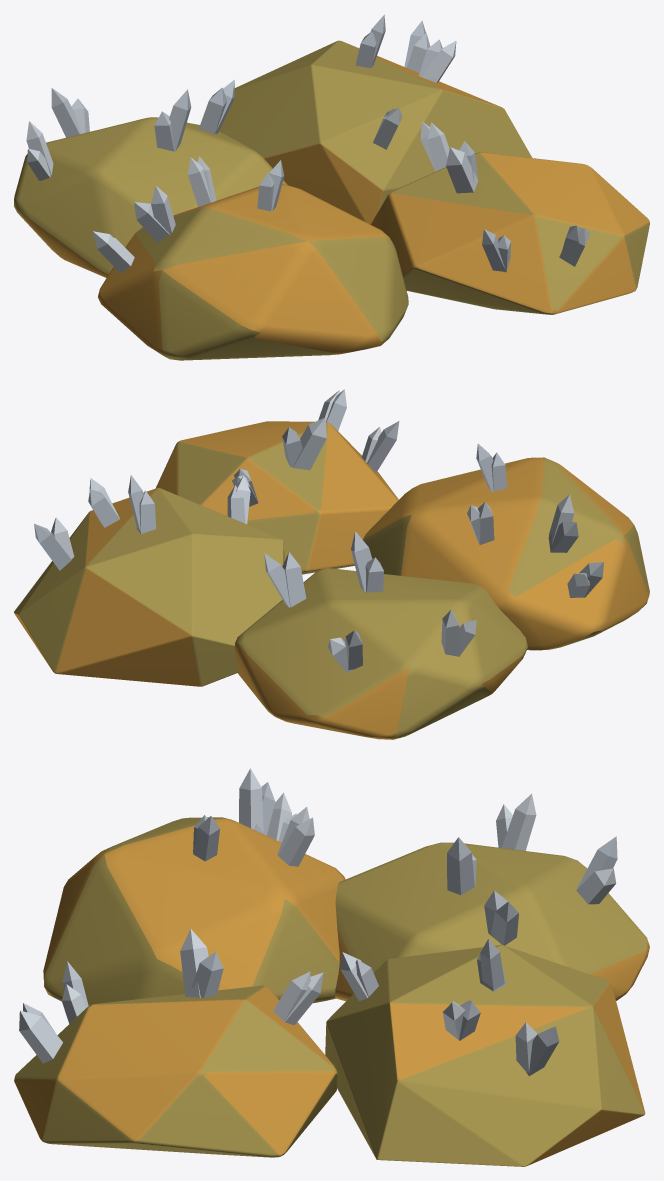
Rendered from minerai_zinc_1.glb.
The picture shows the model from 3 angles, top to bottom: view 1: azimuth 30°, elevation 25°; view 2: azimuth 150°, elevation 25°; view 3: azimuth 270°, elevation 25°; orthographic projection. The views are drawn at different scales.
Visible parts, largest first — view 1: minerai_zinc_roche.004, minerai_zinc_miel.004, minerai_zinc_metal.004, minerai_gris_clair.008; view 2: minerai_zinc_roche.004, minerai_zinc_miel.004, minerai_gris_clair.008, minerai_zinc_metal.004; view 3: minerai_zinc_roche.004, minerai_zinc_miel.004, minerai_zinc_metal.004, minerai_gris_clair.008.
Part boxes in pixels (box(x1,y1,x2,y2)): minerai_zinc_roche.004: box(14, 40, 649, 360); minerai_zinc_miel.004: box(19, 42, 649, 355); minerai_zinc_metal.004: box(26, 32, 590, 273); minerai_gris_clair.008: box(51, 14, 579, 271); minerai_zinc_roche.004: box(14, 422, 649, 737); minerai_zinc_miel.004: box(14, 421, 648, 739); minerai_gris_clair.008: box(34, 389, 578, 669); minerai_zinc_metal.004: box(51, 390, 603, 673); minerai_zinc_roche.004: box(15, 817, 647, 1166); minerai_zinc_miel.004: box(14, 819, 649, 1166); minerai_zinc_metal.004: box(19, 768, 616, 1072); minerai_gris_clair.008: box(23, 782, 617, 1076).
Size of the model in its own units: 0.5492 by 0.1598 by 0.5331.
